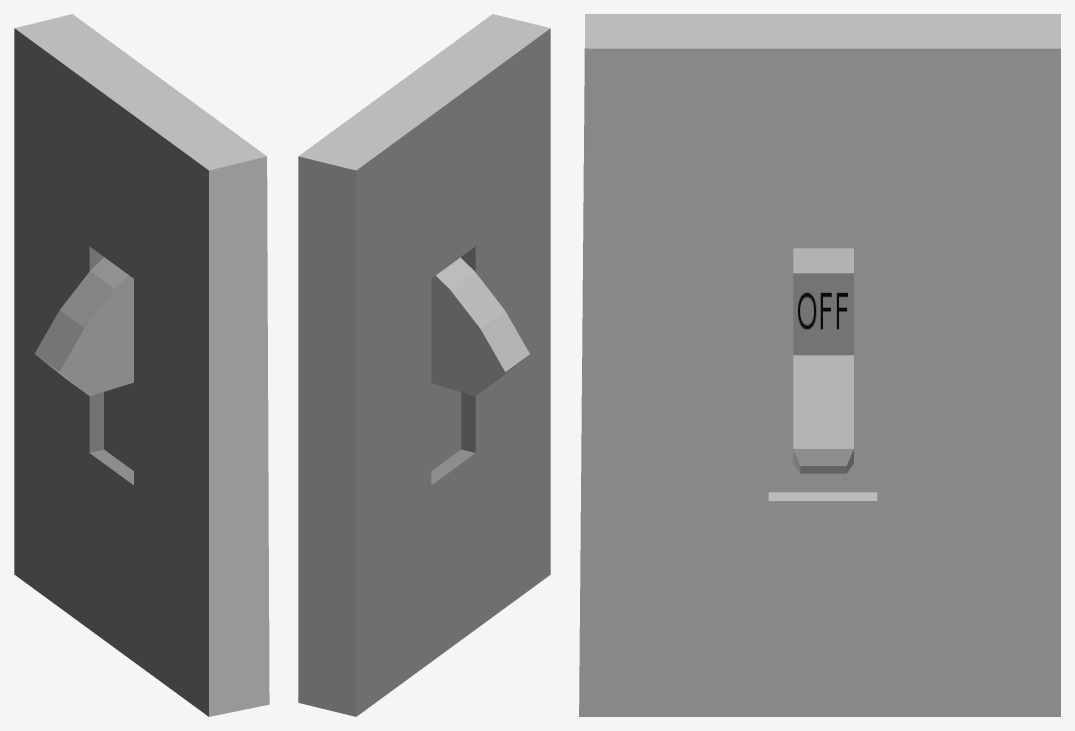
File: lightSwitch.fbx
3 renders of one model, left to right at view 1: azimuth 30°, elevation 25°; view 2: azimuth 150°, elevation 25°; view 3: azimuth 270°, elevation 25°, orthographic. The views are drawn at different scales.
Visible parts, largest first — view 1: Cube, Cube_001; view 2: Cube, Cube_001; view 3: Cube, Cube_001.
Part boxes in pixels (x1,y1,x2,y2): Cube: [14, 14, 269, 716]; Cube_001: [34, 257, 133, 396]; Cube: [298, 14, 550, 716]; Cube_001: [431, 257, 529, 396]; Cube: [579, 14, 1060, 716]; Cube_001: [793, 248, 853, 473].
Size of the model in its own units: 0.5684 by 1.74 by 1.14.
